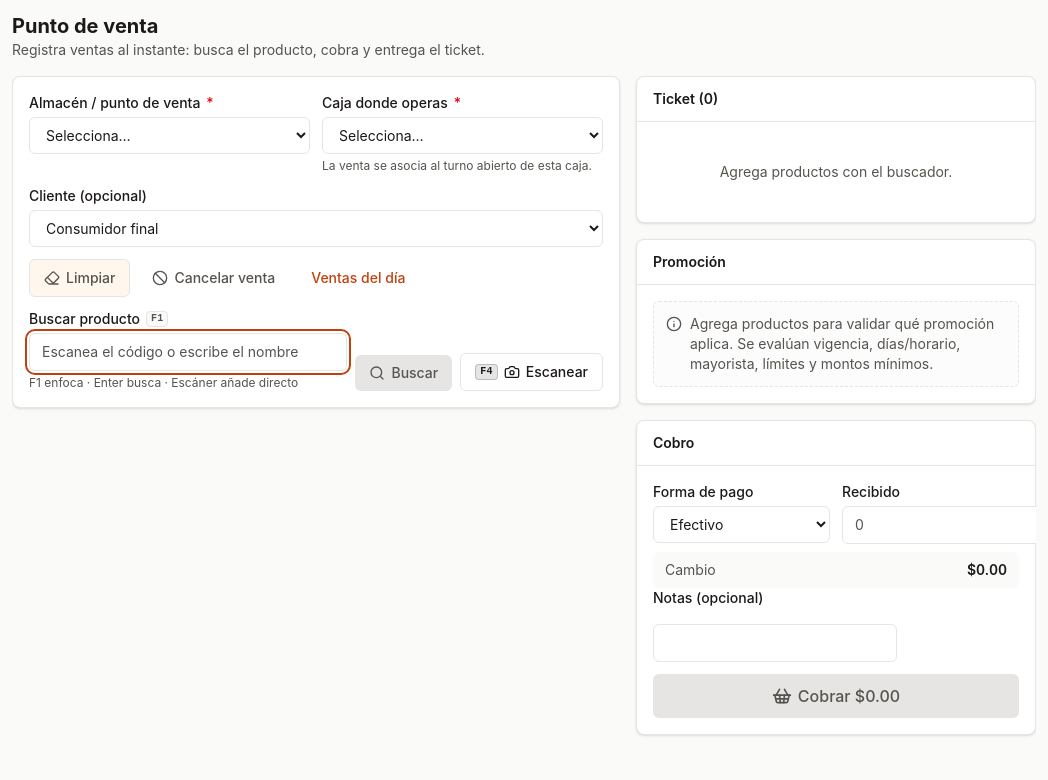
PosPage › muestra el turno abierto al seleccionar almacén y caja
Select "Matriz" in the dropdown labelled "Almacén / punto de venta *": point(170, 136) [29,117,310,154]
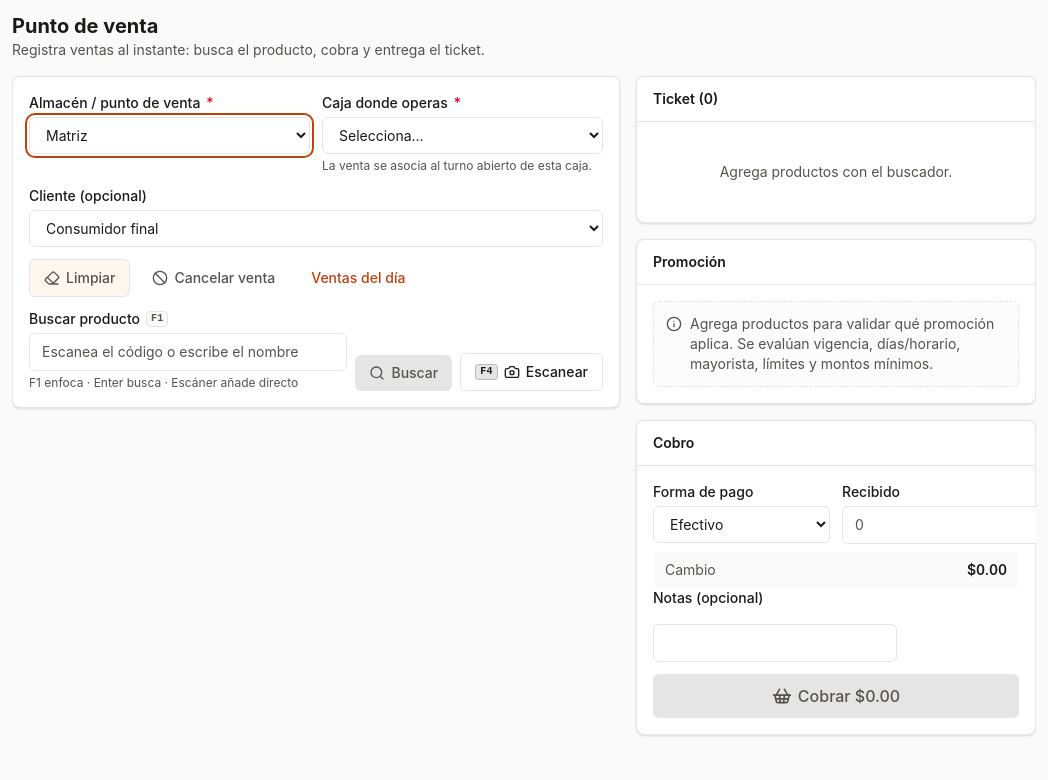
Select "Caja 1 · Matriz" in the dropdown labelled "Caja donde operas": point(462, 136) [322,117,603,154]
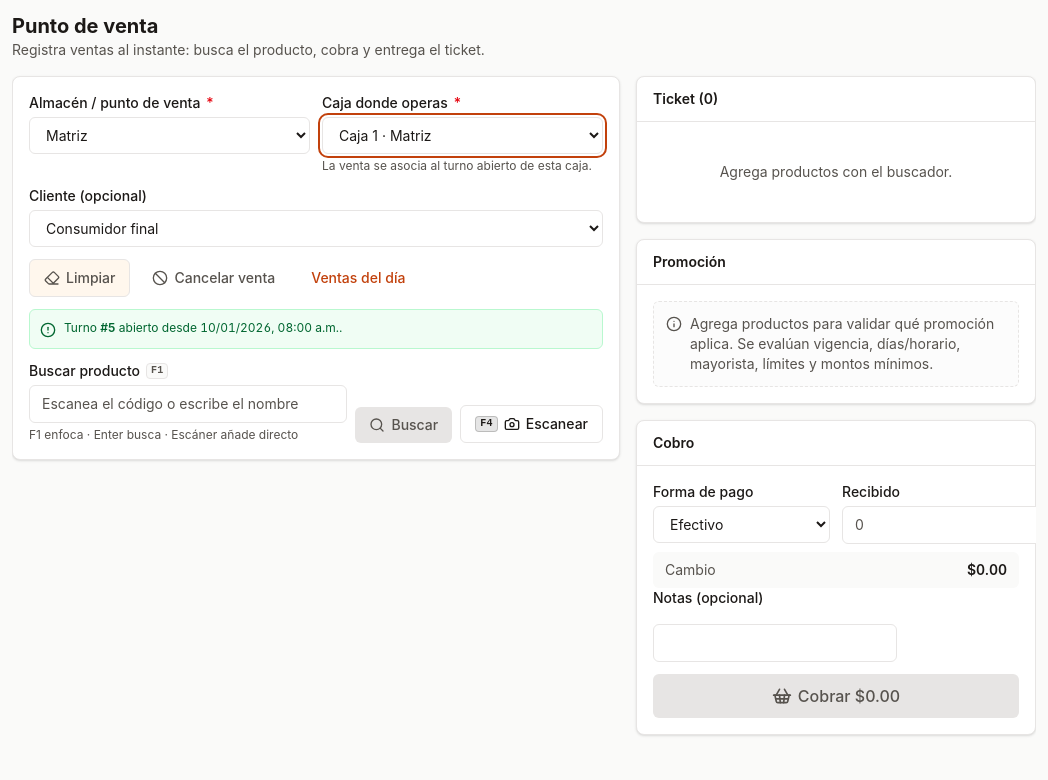
Now the text "Turno #5 abierto desde 10/01/2026, 08:00 a.m.." is shown, box [64,320,342,335]
Now the text "#5" is shown, box [100,320,115,335]
